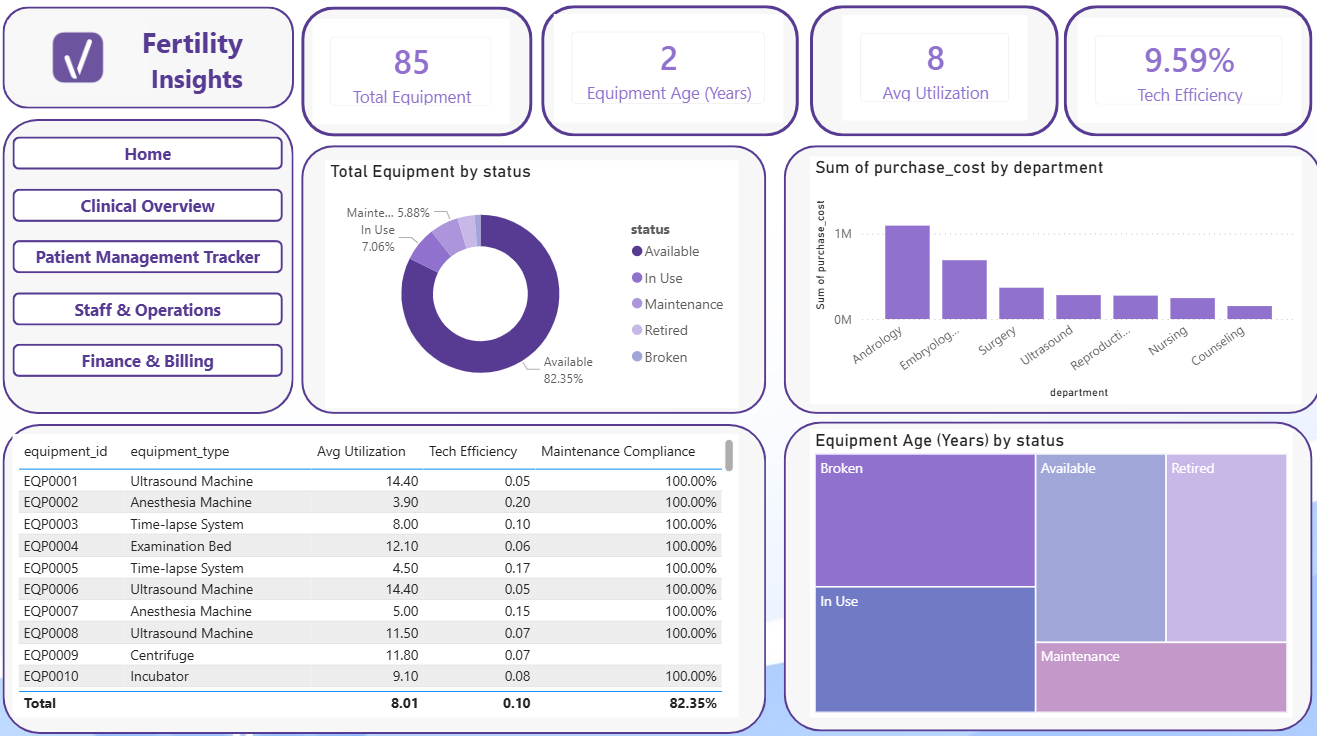

What the dashboard file says about the page in this screenshot:
{"tool":"powerbi","page":{"name":"Equipment","canvas":[1280,720],"ordinal":5},"visuals":[{"type":"shape","box":[6.9,12.3,281.3,98.8],"z":0},{"type":"image","box":[12.3,12.3,135.8,98.8],"z":1000},{"type":"textbox","box":[120.8,23.3,148.2,74.1],"z":2000},{"type":"shape","box":[7.2,120.6,281.1,284.7],"z":3000},{"type":"pageNavigator","box":[17.3,138,261.2,234.1],"z":4000},{"type":"shape","box":[295.6,146,448.8,259.4],"z":5000},{"type":"shape","box":[7.2,415,737.1,299.2],"z":6000},{"type":"shape","box":[295.6,12.1,223.2,125.5],"z":7000},{"type":"shape","box":[527.2,10.9,248.5,126.7],"z":8000},{"type":"shape","box":[786.6,10.9,240.1,126.7],"z":9000},{"type":"shape","box":[1031.5,10.9,240.1,126.7],"z":10000},{"type":"shape","box":[761.3,146,518.8,259.4],"z":11000},{"type":"donutChart","fields":{"Category":["equipments.status"],"Y":["equipments.Total Equipment"]},"box":[318.5,160.5,399.3,238.9],"z":12000},{"type":"clusteredColumnChart","fields":{"Category":["equipments.department"],"Y":["Sum(equipments.purchase_cost)"]},"box":[786.6,156.8,474.1,238.9],"z":13000},{"type":"tableEx","fields":{"Values":["equipments.equipment_id","equipments.equipment_type","equipments.Avg Utilization","equipments.Tech Efficiency","equipments.Maintenance Compliance"]},"box":[16.9,424.7,700.9,273.9],"z":14000},{"type":"shape","box":[761.3,412.6,510.3,299.2],"z":15000},{"type":"treemap","fields":{"Group":["equipments.status"],"Values":["equipments.Equipment Age (Years)"]},"box":[786.6,419.8,465.7,278.7],"z":16000},{"type":"cardVisual","fields":{"Data":["equipments.Equipment Age (Years)"]},"box":[539.3,19.3,222,105],"z":17000},{"type":"cardVisual","fields":{"Data":["equipments.Total Equipment"]},"box":[306.4,24.1,190.6,101.3],"z":18000},{"type":"cardVisual","fields":{"Data":["equipments.Avg Utilization"]},"box":[818,20.5,178.6,101.3],"z":19000},{"type":"cardVisual","fields":{"Data":["equipments.Tech Efficiency"]},"box":[1044.8,22.9,216,101.3],"z":20000}]}

Visuals, with their boxes in screenshot pixels (x1, y1, x2, y2), scaled from the page's 1280x720 canvas onto the 1317x736 screenshot:
shape: region(7, 13, 297, 114)
image: region(13, 13, 152, 114)
textbox: region(124, 24, 277, 100)
shape: region(7, 123, 297, 414)
pageNavigator: region(18, 141, 287, 380)
shape: region(304, 149, 766, 414)
shape: region(7, 424, 766, 730)
shape: region(304, 12, 534, 141)
shape: region(542, 11, 798, 141)
shape: region(809, 11, 1056, 141)
shape: region(1061, 11, 1308, 141)
shape: region(783, 149, 1316, 414)
donutChart - equipments.status x equipments.Total Equipment: region(328, 164, 739, 408)
clusteredColumnChart - equipments.department x Sum(equipments.purchase_cost): region(809, 160, 1297, 404)
tableEx - equipments.equipment_id x equipments.equipment_type: region(17, 434, 739, 714)
shape: region(783, 422, 1308, 728)
treemap - equipments.status x equipments.Equipment Age (Years): region(809, 429, 1288, 714)
cardVisual - equipments.Equipment Age (Years): region(555, 20, 783, 127)
cardVisual - equipments.Total Equipment: region(315, 25, 511, 128)
cardVisual - equipments.Avg Utilization: region(842, 21, 1025, 125)
cardVisual - equipments.Tech Efficiency: region(1075, 23, 1297, 127)
